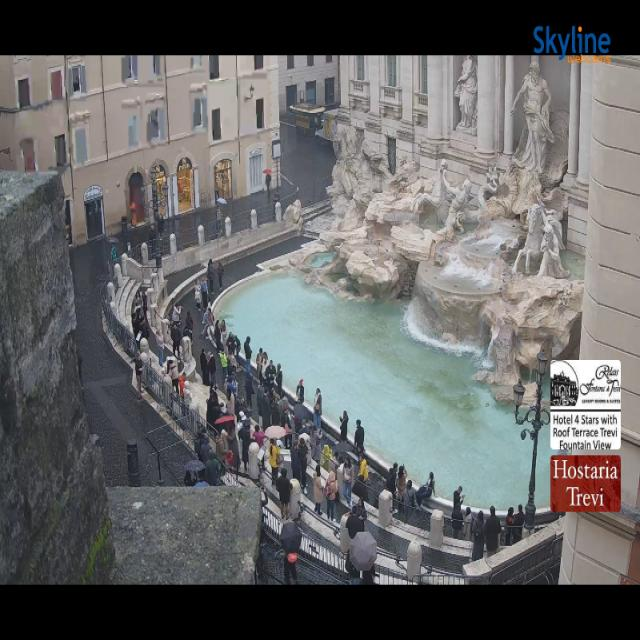person: (276, 467, 293, 521), (485, 506, 501, 556), (239, 412, 251, 472), (254, 425, 269, 471), (253, 425, 268, 471), (416, 472, 435, 505), (346, 505, 364, 539), (325, 471, 337, 521), (472, 511, 484, 561), (205, 450, 222, 485), (227, 423, 239, 470), (297, 438, 307, 494), (206, 390, 220, 427), (259, 388, 271, 430), (283, 404, 294, 449), (345, 552, 360, 584), (269, 438, 279, 485), (245, 360, 254, 412), (397, 466, 407, 512), (314, 464, 323, 515), (512, 505, 524, 543), (284, 552, 298, 584), (200, 306, 214, 337), (344, 458, 353, 505), (268, 389, 280, 424), (387, 463, 398, 501), (310, 425, 321, 463), (352, 475, 368, 501), (149, 215, 159, 256), (452, 504, 463, 539), (168, 359, 179, 394), (404, 480, 415, 514), (504, 508, 514, 545), (235, 395, 248, 423), (291, 442, 300, 482), (199, 435, 211, 464), (216, 430, 227, 461), (171, 324, 181, 358), (464, 507, 474, 541), (136, 352, 143, 399), (200, 349, 209, 385), (320, 444, 332, 471), (313, 389, 321, 429), (194, 429, 205, 458), (355, 419, 364, 454), (265, 360, 275, 390), (132, 312, 140, 348), (156, 326, 163, 367), (184, 311, 194, 339), (214, 320, 223, 351), (253, 425, 265, 448), (244, 337, 251, 376), (207, 259, 215, 292), (140, 315, 151, 339), (256, 348, 263, 385), (340, 410, 348, 442), (219, 350, 227, 381), (336, 456, 344, 487), (362, 565, 375, 584), (208, 352, 215, 387), (359, 455, 368, 482), (227, 375, 237, 399), (278, 402, 287, 428), (300, 419, 313, 437), (220, 319, 227, 352), (453, 486, 464, 507), (276, 364, 283, 397), (225, 332, 235, 355), (228, 352, 237, 376), (200, 280, 208, 307), (358, 498, 367, 521), (184, 470, 196, 487), (172, 304, 182, 324), (336, 456, 344, 481), (216, 262, 223, 290), (227, 391, 235, 415), (216, 205, 222, 237), (195, 279, 201, 311), (296, 379, 304, 403), (263, 351, 268, 389), (134, 290, 142, 312), (428, 472, 435, 496), (265, 175, 271, 201), (260, 486, 267, 507), (234, 335, 240, 358), (166, 356, 173, 375), (142, 291, 147, 317), (111, 245, 118, 263), (195, 480, 210, 488), (220, 402, 228, 417), (179, 373, 184, 397), (160, 357, 161, 365)
